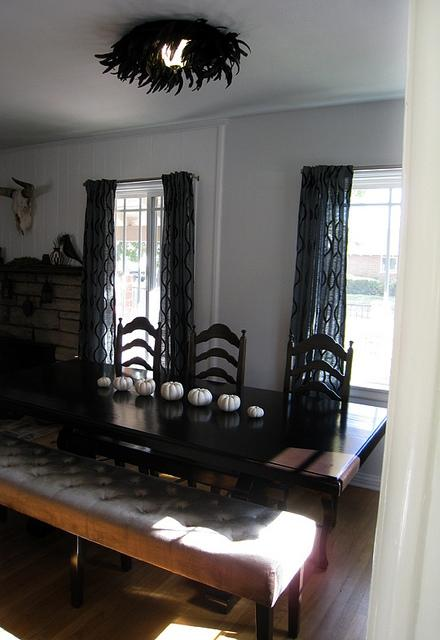pumpkin: (160, 382, 184, 401), (188, 388, 212, 406), (134, 378, 156, 396), (218, 394, 241, 411), (113, 374, 133, 390), (97, 372, 111, 387), (247, 406, 264, 418)
